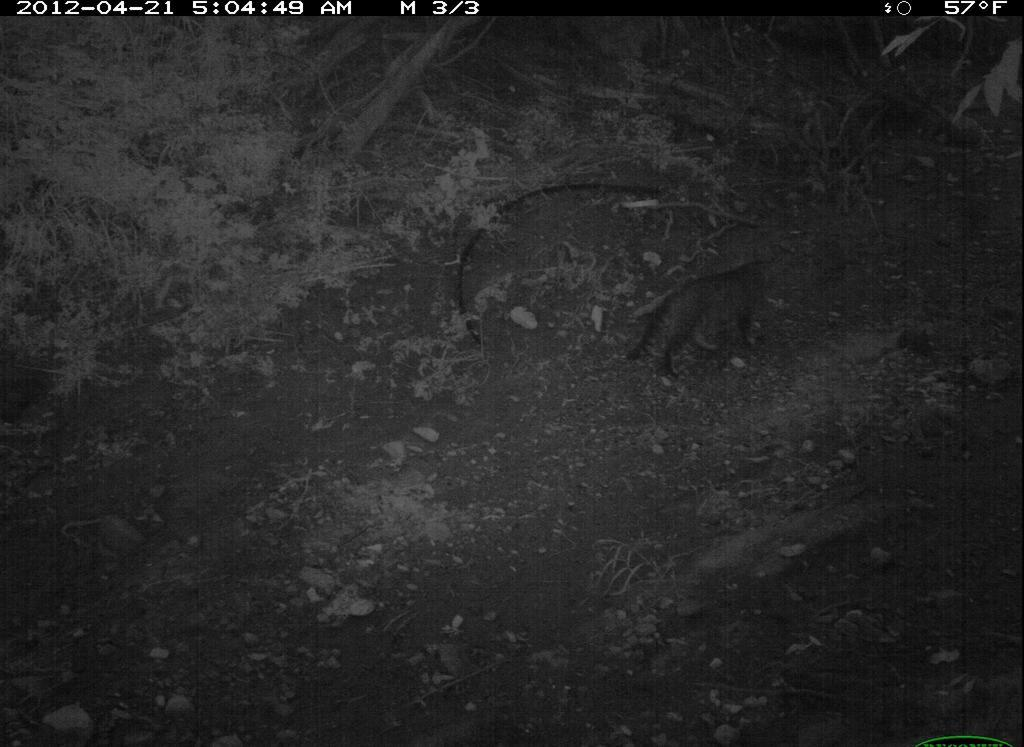cat: (625, 241, 790, 390)
